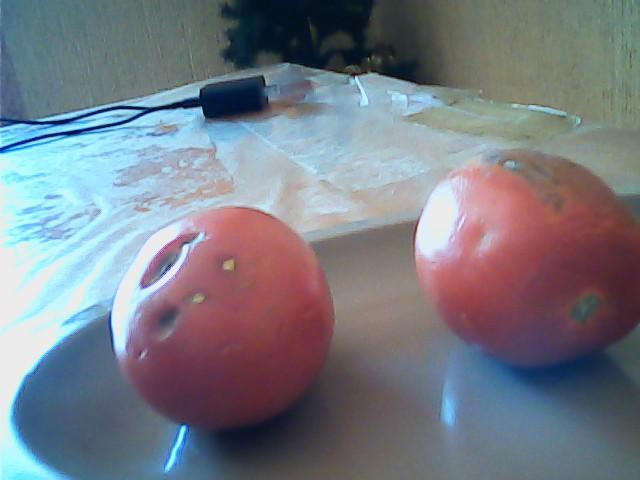defectuoso: (108, 202, 338, 430), (418, 147, 635, 369)
